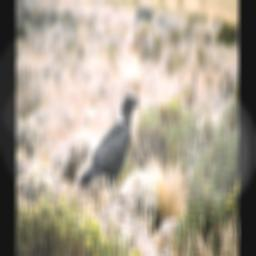Crow: (77, 90, 140, 206)
